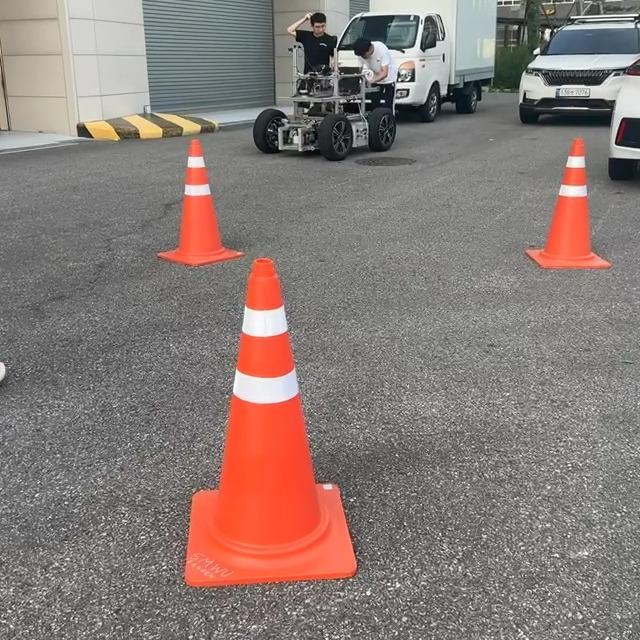fallen_object: (157, 261, 369, 640), (123, 129, 234, 249), (530, 133, 613, 285)
